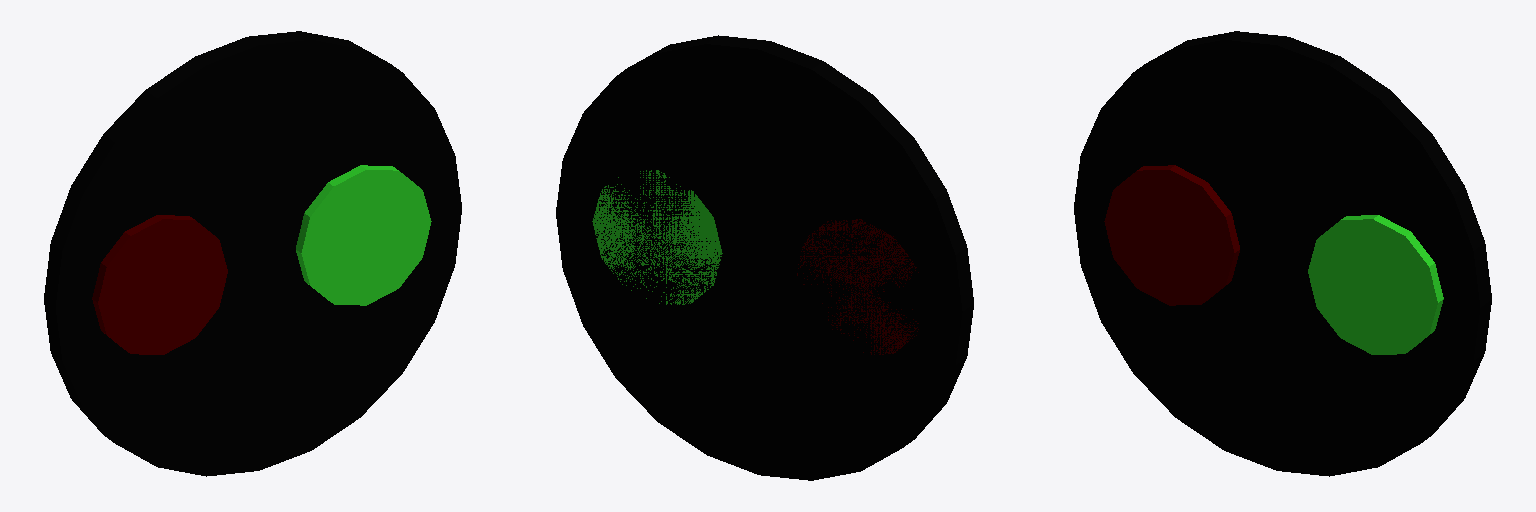
File: 红绿灯.obj
3 renders of one model, left to right at view 1: azimuth 30°, elevation 25°; view 2: azimuth 150°, elevation 25°; view 3: azimuth 330°, elevation 25°, orthographic.
Parts seen in each view (by area): view 1: GeoContainer; view 2: GeoContainer; view 3: GeoContainer.
Part boxes in pixels (x1,y1,x2,y2): GeoContainer: (44, 31, 461, 476); GeoContainer: (556, 35, 973, 480); GeoContainer: (1074, 31, 1491, 476).
Size of the model in its own units: 200 by 200 by 15.